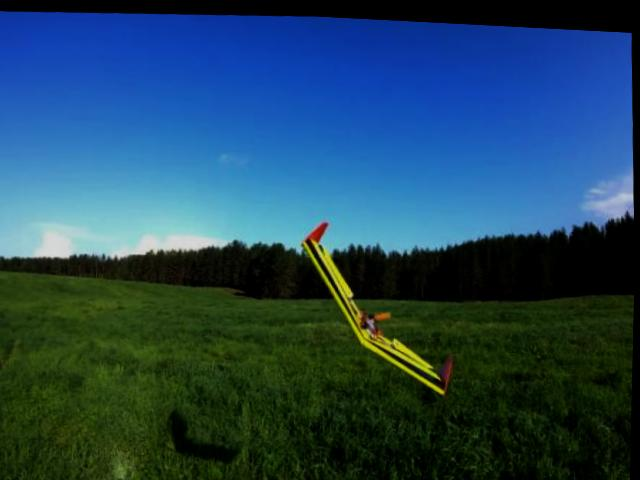flying wing: (297, 208, 460, 404)
